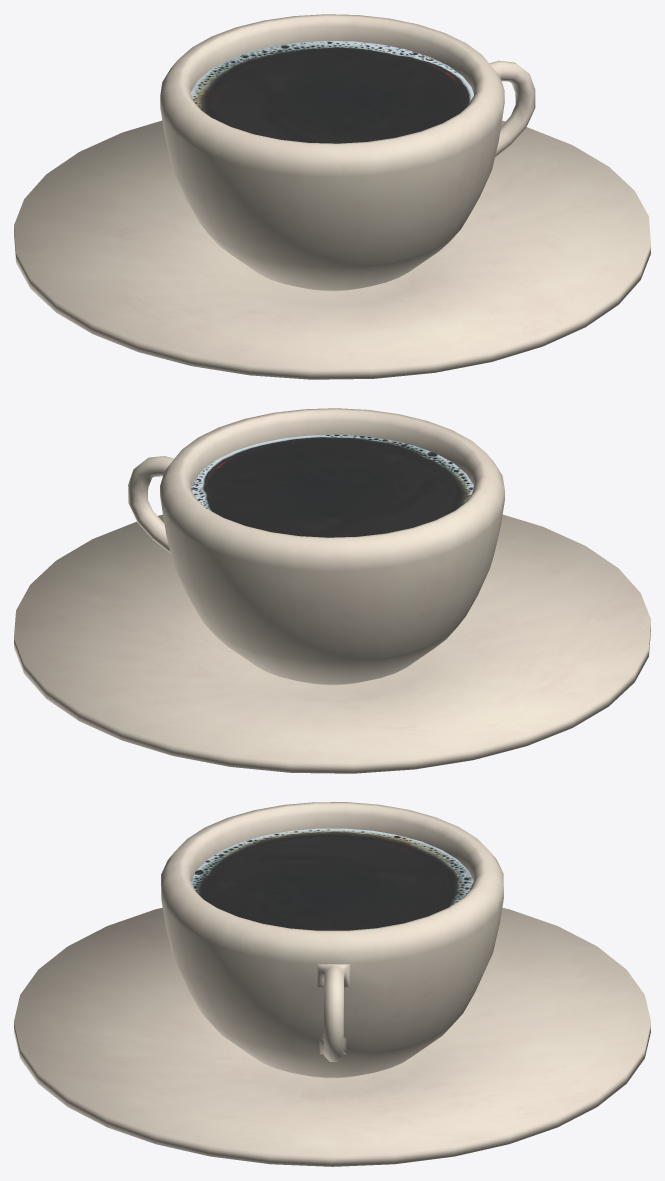
File: Coffee.fbx
The picture shows the model from 3 angles, top to bottom: view 1: azimuth 30°, elevation 25°; view 2: azimuth 150°, elevation 25°; view 3: azimuth 270°, elevation 25°; orthographic projection.
Visible parts, largest first — view 1: Coffee; view 2: Coffee; view 3: Coffee.
Part boxes in pixels (x1,y1,x2,y2): Coffee: (14,14,650,379); Coffee: (14,408,650,773); Coffee: (14,802,650,1166).
Bounding box in the file's own units: 344 × 117 × 344.
2 materials, 2 textured.
